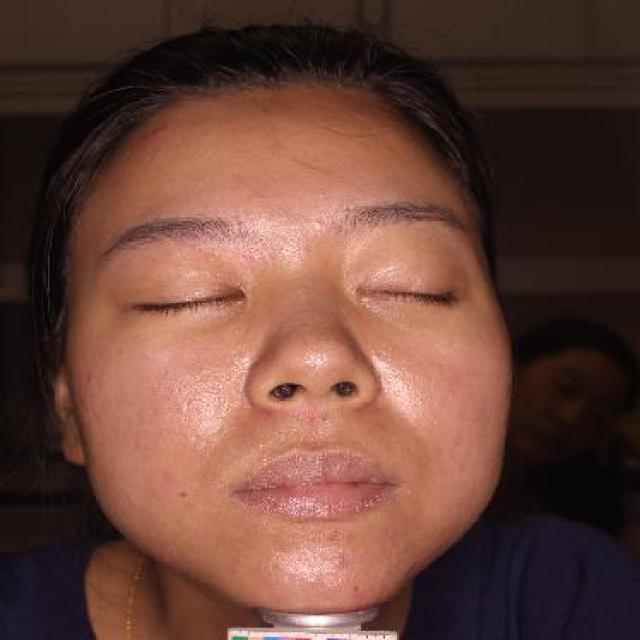blackhead: (317, 411, 334, 426), (311, 215, 327, 228)
nodules: (148, 123, 174, 140), (342, 525, 358, 540), (303, 576, 317, 590), (330, 556, 346, 567), (271, 560, 284, 572)
